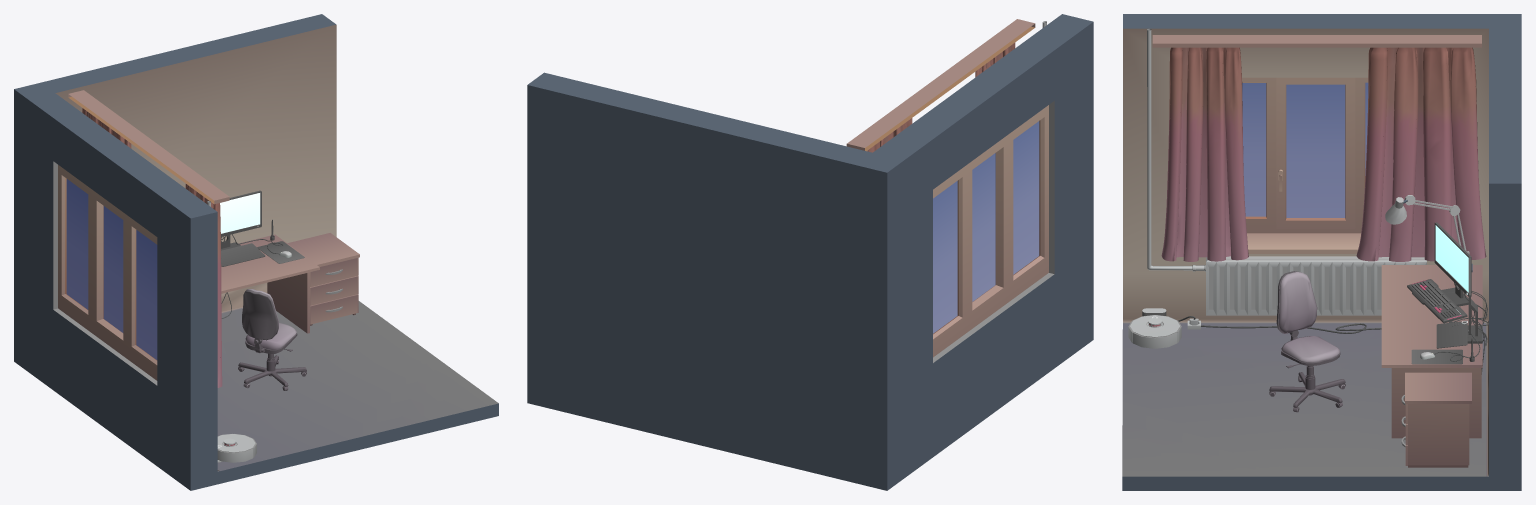
Rendered from room.glb.
3 renders of one model, left to right at view 1: azimuth 30°, elevation 25°; view 2: azimuth 150°, elevation 25°; view 3: azimuth 270°, elevation 25°, orthographic. The views are drawn at different scales.
Visible parts, largest first — view 1: body1; view 2: body1; view 3: body1.
Part boxes in pixels (bbox=[...]): body1: bbox=[14, 14, 498, 490]; body1: bbox=[527, 14, 1093, 490]; body1: bbox=[1122, 14, 1521, 490].
Size of the model in its own units: 9.11 by 7.72 by 9.06.
